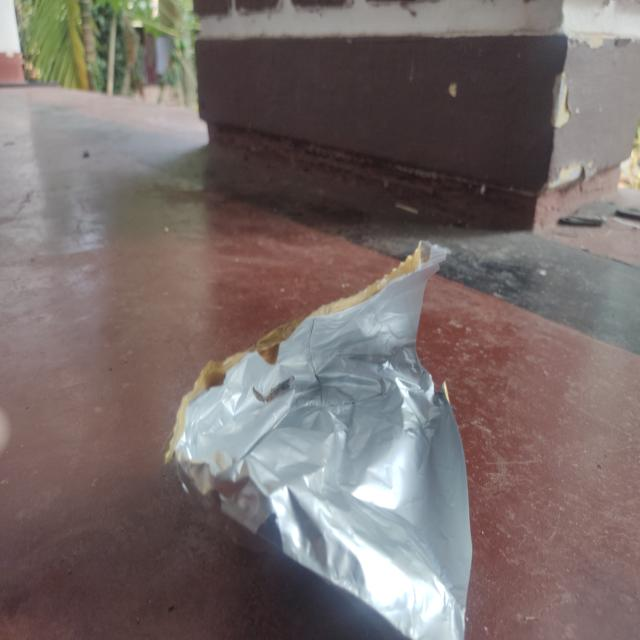plastic: (163, 240, 476, 640)
